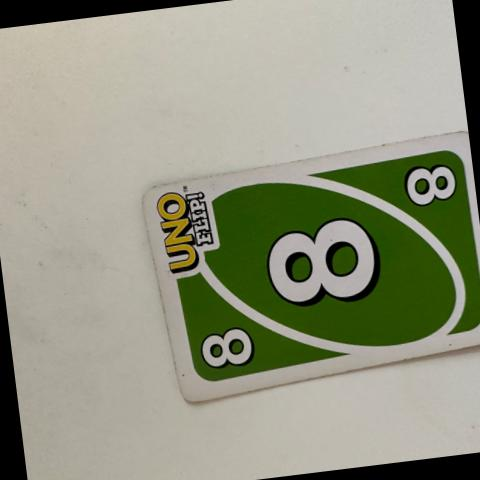1_red: (255, 210, 380, 310), (195, 323, 254, 373), (401, 165, 460, 208)
